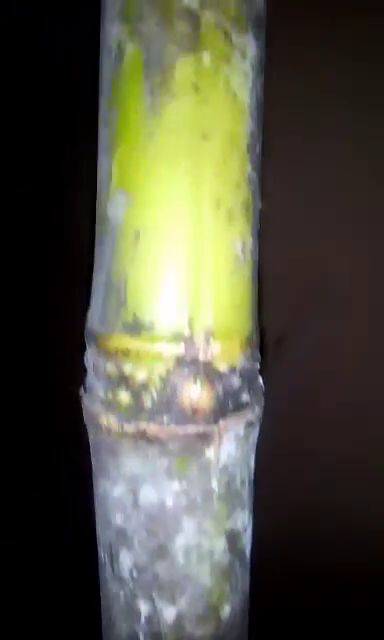cane eye: (162, 364, 229, 428)
